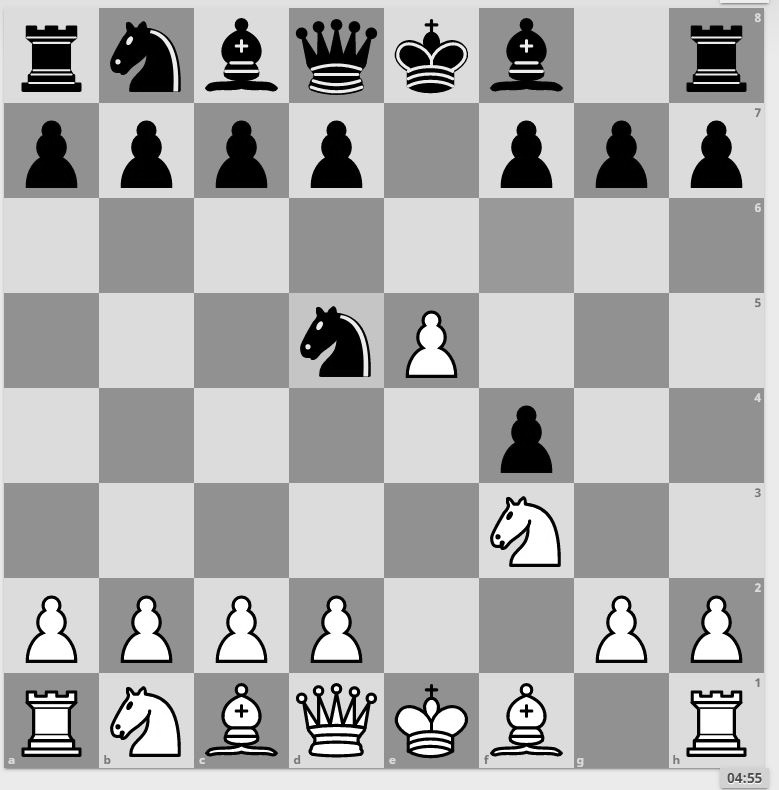bishop: (479, 667, 575, 761), (196, 667, 291, 761), (481, 5, 574, 95), (198, 1, 288, 93)
king: (389, 4, 480, 97), (388, 668, 480, 759)
knight: (102, 667, 196, 761), (479, 485, 571, 580), (101, 3, 195, 95), (293, 295, 382, 388)
pawn: (477, 388, 574, 485), (479, 96, 575, 192), (291, 572, 387, 667), (4, 574, 100, 667), (102, 97, 195, 193), (199, 96, 291, 193), (575, 571, 670, 664), (670, 572, 766, 664), (5, 100, 99, 193), (292, 98, 384, 193), (385, 293, 477, 388), (386, 383, 479, 476), (579, 97, 670, 192), (103, 572, 195, 664), (196, 575, 292, 663), (671, 99, 763, 189)
queen: (291, 5, 386, 97), (294, 668, 386, 758)
rook: (4, 667, 102, 763), (669, 665, 763, 759), (670, 5, 765, 97), (6, 5, 98, 93)
